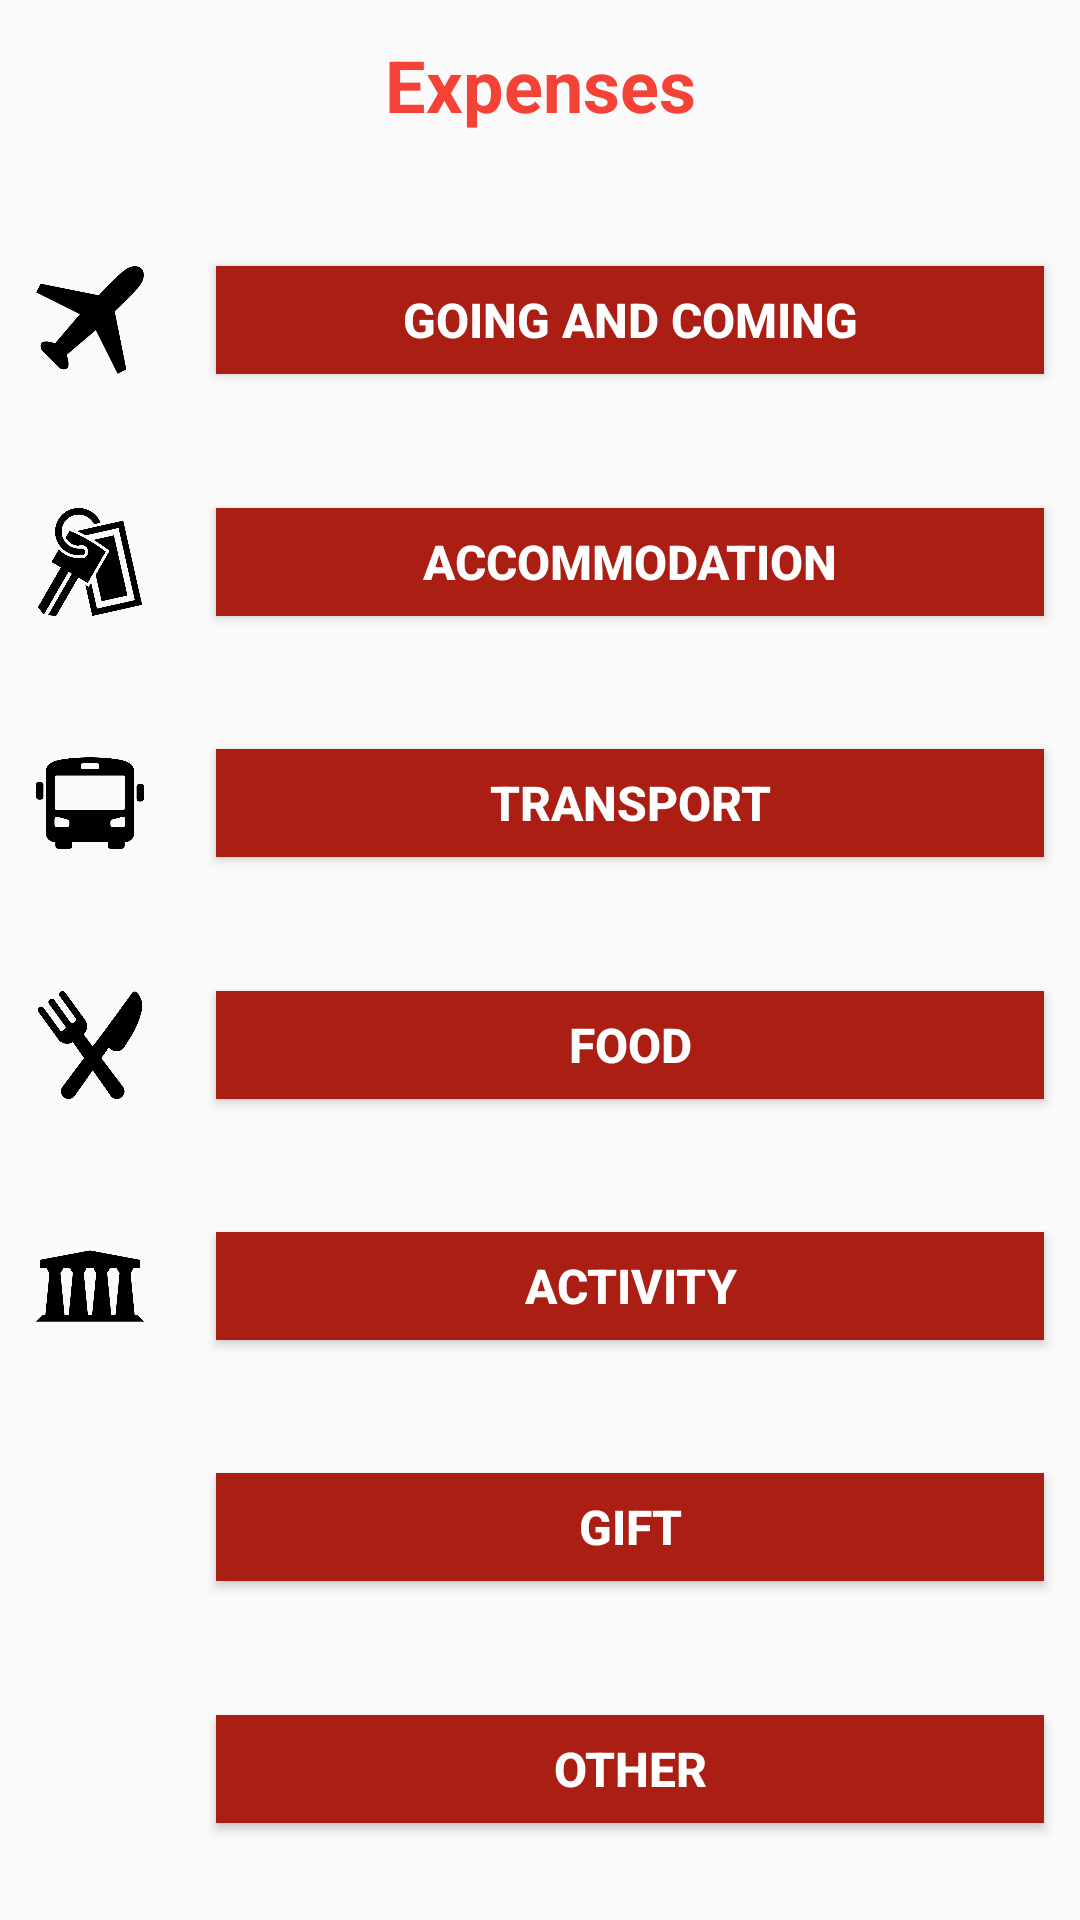

Icons on this 1080x1920 Android screen, each with the point to tap as (x=x, y=y):
activities: (x=90, y=1286)
